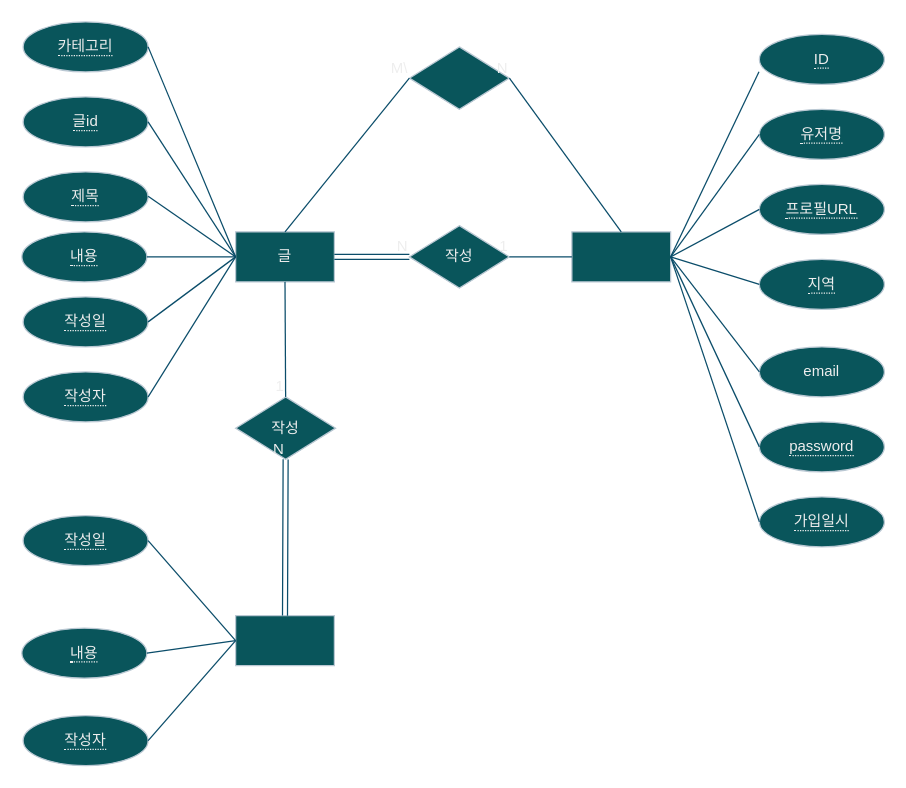
The diagram is 906 pixels wide and 788 high, and some of its shapes have lost their labels. Here are the shapes that lost their labels. From the top down, the centre of each, then its label:
At (458,77): "좋아요".
At (621,256): "유저".
At (284,640): "댓글".
